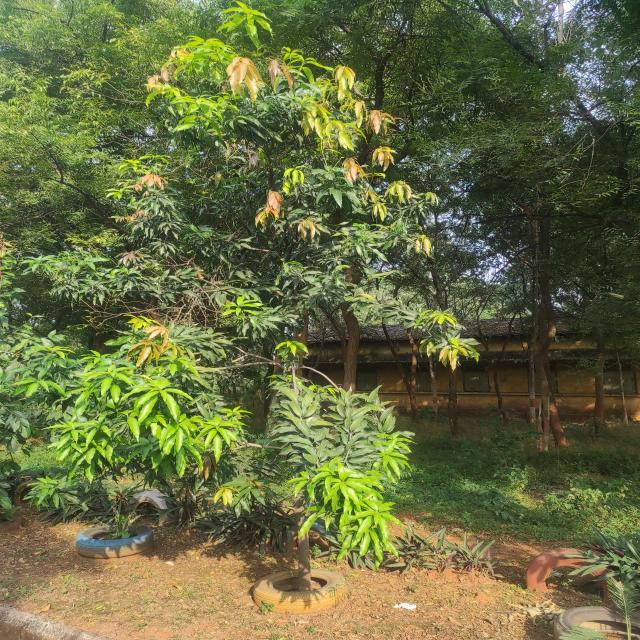Mango Tree: (171, 43, 394, 536)
Neem Tree: (13, 17, 98, 263)
